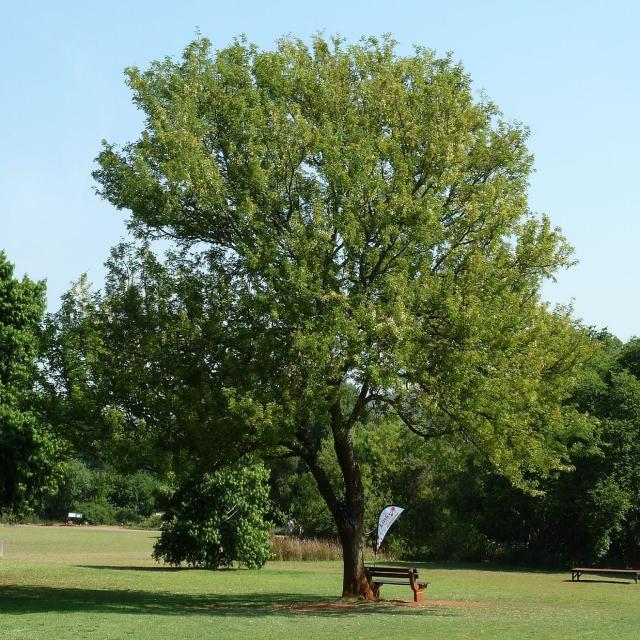Acacia: (104, 32, 577, 507)
